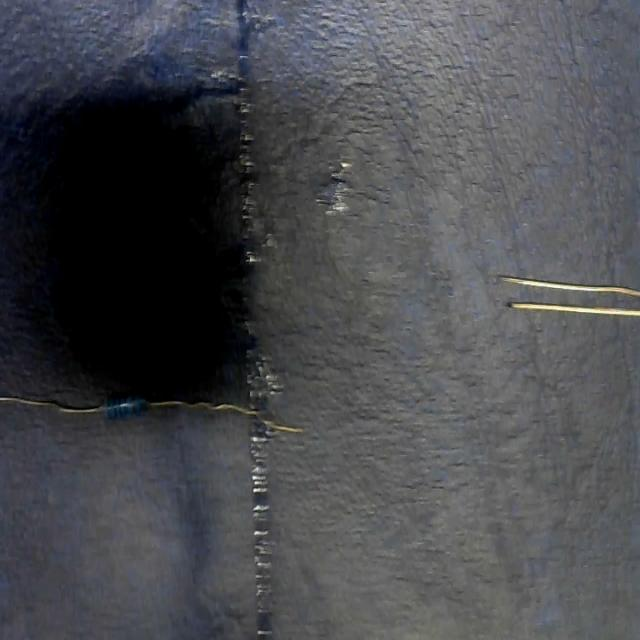resistor: (1, 379, 303, 447)
